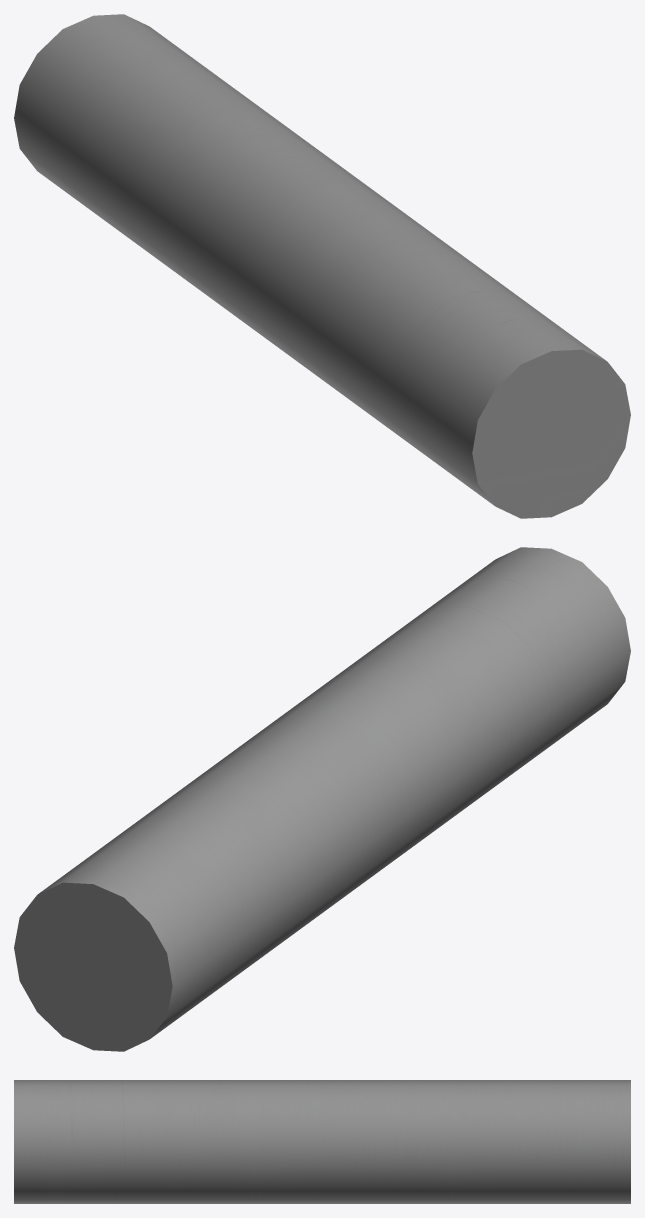
File: SM_PillarCompTubs.fbx
3 views of the same model, one above another, from view 1: azimuth 30°, elevation 25°; view 2: azimuth 150°, elevation 25°; view 3: azimuth 270°, elevation 25° (orthographic). The views are drawn at different scales.
Visible parts, largest first — view 1: SM_PillarCompTubs_LOD0; view 2: SM_PillarCompTubs_LOD0; view 3: SM_PillarCompTubs_LOD0.
Part boxes in pixels (x1,y1,x2,y2): SM_PillarCompTubs_LOD0: (14, 14, 630, 518); SM_PillarCompTubs_LOD0: (14, 547, 630, 1051); SM_PillarCompTubs_LOD0: (14, 1080, 630, 1203).
Bounding box in the file's own units: 40 × 200 × 40.
Materials: 1 (1 with a texture image).
